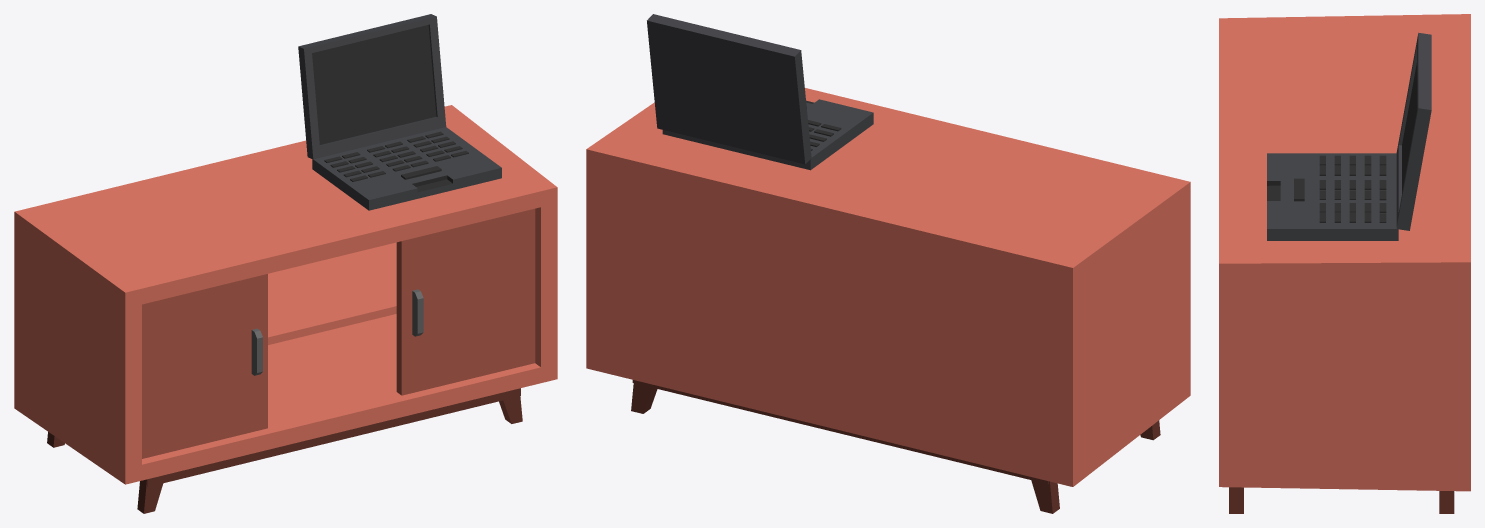
The model's file is Laptop_TV drawer.fbx.
The picture shows the model from 3 angles, left to right: view 1: azimuth 30°, elevation 25°; view 2: azimuth 150°, elevation 25°; view 3: azimuth 270°, elevation 25°; orthographic projection. The views are drawn at different scales.
Parts seen in each view (by area): view 1: pCube18, Laptop, Door1, Door; view 2: pCube18, Laptop; view 3: pCube18, Laptop.
Boxes of the visible parts, x1,y1,x2,y2 form: pCube18: (14,105,557,513); Laptop: (298,14,501,210); Door1: (396,208,535,395); Door: (142,274,267,458); pCube18: (586,88,1190,513); Laptop: (647,14,873,170); pCube18: (1219,14,1470,513); Laptop: (1267,32,1431,240).
Size of the model in its own units: 4.35 by 3.3 by 1.87.
